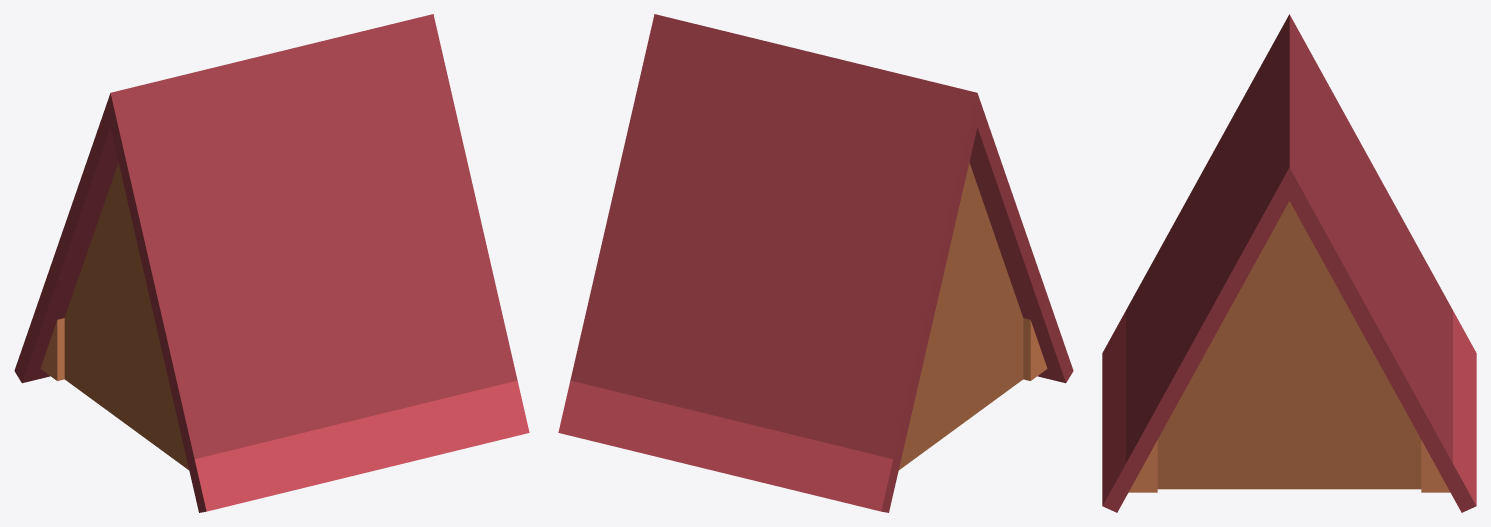
File: roofHighGable.obj
3 views of the same model, side by side, from view 1: azimuth 30°, elevation 25°; view 2: azimuth 150°, elevation 25°; view 3: azimuth 270°, elevation 25° (orthographic). The views are drawn at different scales.
Visible parts, largest first — view 1: roofHighGable; view 2: roofHighGable; view 3: roofHighGable.
Boxes of the visible parts, x1,y1,x2,y2 form: roofHighGable: (14,14,529,512); roofHighGable: (558,14,1073,512); roofHighGable: (1102,14,1476,512).
Bounding box in the file's own units: 1.1 × 1.16 × 1.13.
